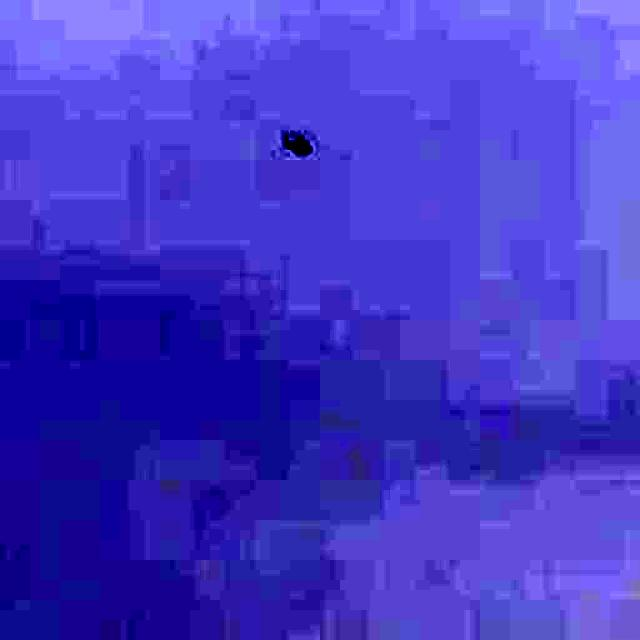drone: (271, 119, 329, 169)
